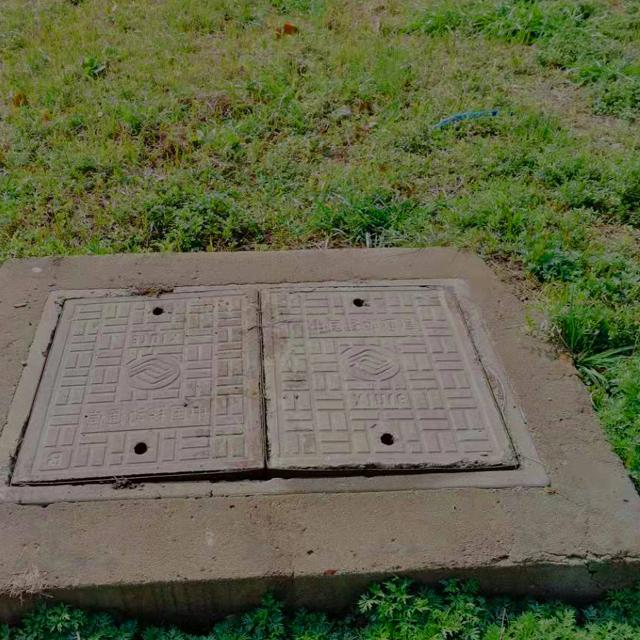good: (0, 257, 497, 507)
